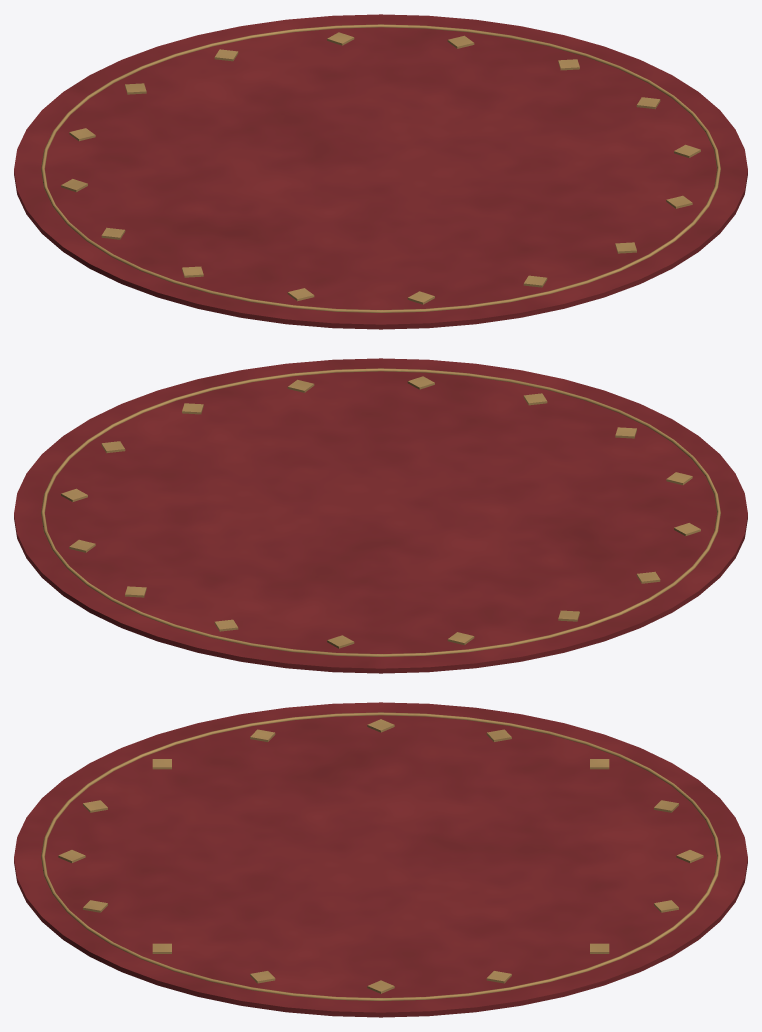
Rendered from Furn_RoundRug.fbx.
The picture shows the model from 3 angles, top to bottom: view 1: azimuth 30°, elevation 25°; view 2: azimuth 150°, elevation 25°; view 3: azimuth 270°, elevation 25°; orthographic projection.
Parts seen in each view (by area): view 1: Furn_RoundRug_Mesh; view 2: Furn_RoundRug_Mesh; view 3: Furn_RoundRug_Mesh.
Boxes of the visible parts, x1,y1,x2,y2 form: Furn_RoundRug_Mesh: (14,14,747,329); Furn_RoundRug_Mesh: (14,358,747,673); Furn_RoundRug_Mesh: (14,702,747,1017).
Size of the model in its own units: 1.9 by 0.02 by 1.9.
Materials: 2 (2 with a texture image).
